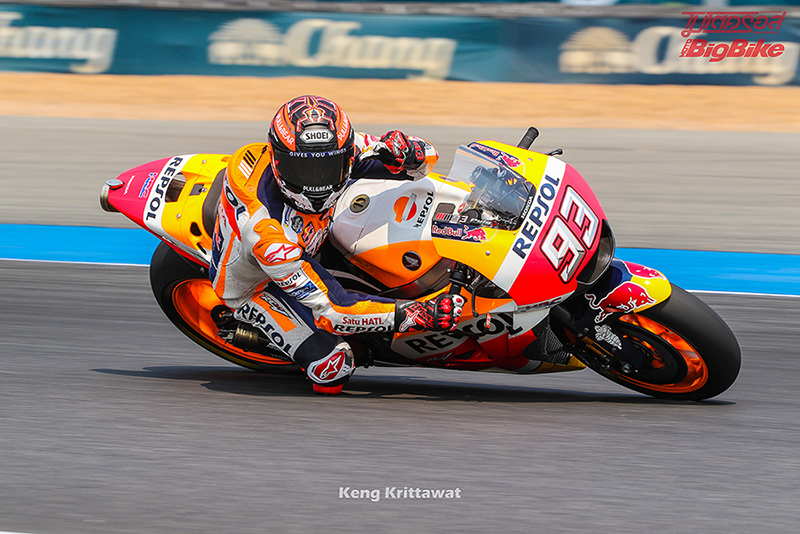helmet: (263, 94, 357, 208)
